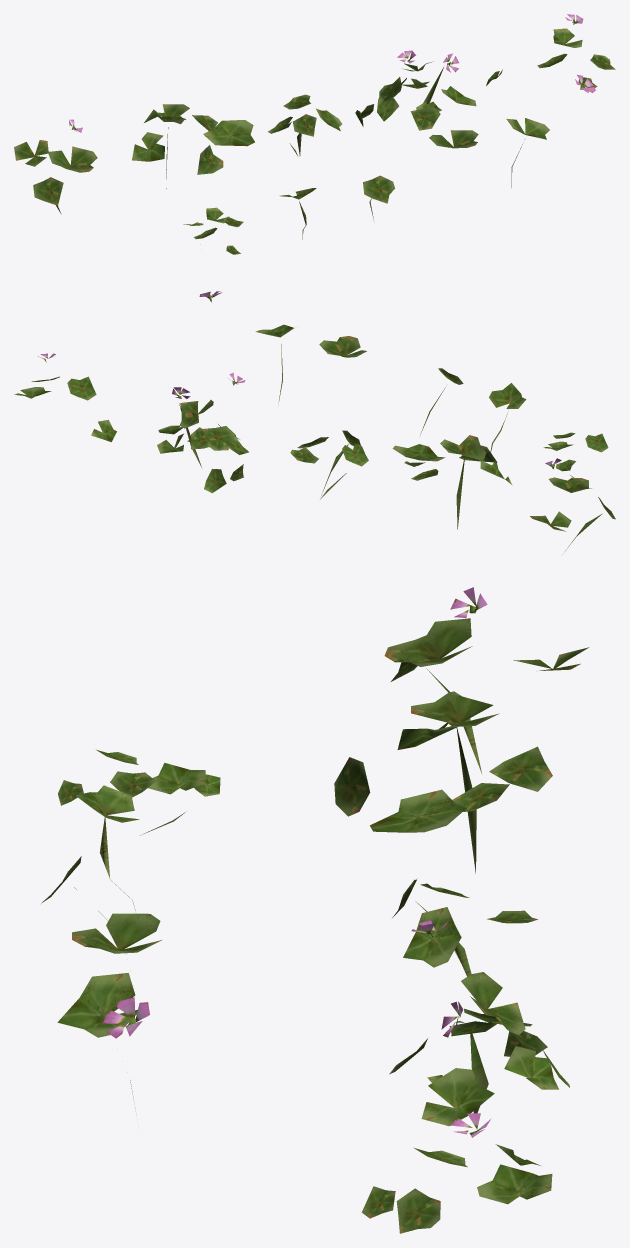
The model's file is shrub_sorrel_01.glb.
3 views of the same model, one above another, from view 1: azimuth 30°, elevation 25°; view 2: azimuth 150°, elevation 25°; view 3: azimuth 270°, elevation 25° (orthographic). The views are drawn at different scales.
Visible parts, largest first — view 1: shrub_sorrel_01_b, shrub_sorrel_01_d, shrub_sorrel_01_a, shrub_sorrel_01_c, shrub_sorrel_01_e, shrub_sorrel_01_h, shrub_sorrel_01_i, shrub_sorrel_01_f, shrub_sorrel_01_j; view 2: shrub_sorrel_01_d, shrub_sorrel_01_b, shrub_sorrel_01_e, shrub_sorrel_01_c, shrub_sorrel_01_a, shrub_sorrel_01_f, shrub_sorrel_01_i, shrub_sorrel_01_g; view 3: shrub_sorrel_01_b, shrub_sorrel_01_d, shrub_sorrel_01_e, shrub_sorrel_01_a, shrub_sorrel_01_c, shrub_sorrel_01_f, shrub_sorrel_01_j, shrub_sorrel_01_i, shrub_sorrel_01_g, shrub_sorrel_01_k.
Part boxes in pixels (x1,y1,x2,y2): shrub_sorrel_01_b: (132, 104, 254, 189); shrub_sorrel_01_d: (355, 50, 476, 130); shrub_sorrel_01_a: (14, 119, 97, 214); shrub_sorrel_01_c: (268, 94, 342, 155); shrub_sorrel_01_e: (486, 14, 615, 87); shrub_sorrel_01_h: (363, 175, 394, 221); shrub_sorrel_01_i: (429, 130, 478, 148); shrub_sorrel_01_f: (183, 207, 243, 254); shrub_sorrel_01_j: (506, 118, 549, 187); shrub_sorrel_01_d: (157, 372, 248, 493); shrub_sorrel_01_b: (392, 435, 512, 529); shrub_sorrel_01_e: (14, 353, 116, 442); shrub_sorrel_01_c: (290, 430, 368, 499); shrub_sorrel_01_a: (530, 458, 615, 550); shrub_sorrel_01_f: (543, 432, 608, 477); shrub_sorrel_01_i: (319, 336, 366, 357); shrub_sorrel_01_g: (489, 383, 526, 452); shrub_sorrel_01_b: (334, 691, 552, 873); shrub_sorrel_01_d: (389, 920, 569, 1126); shrub_sorrel_01_e: (361, 1113, 552, 1233); shrub_sorrel_01_a: (384, 587, 589, 774); shrub_sorrel_01_c: (392, 878, 537, 976); shrub_sorrel_01_f: (58, 749, 220, 835); shrub_sorrel_01_j: (57, 973, 137, 1115); shrub_sorrel_01_i: (72, 913, 161, 953); shrub_sorrel_01_g: (75, 785, 139, 910); shrub_sorrel_01_k: (102, 997, 149, 1038).
Bounding box in the file's own units: 0.352 × 0.058 × 0.1455.
1 material, 1 textured.
